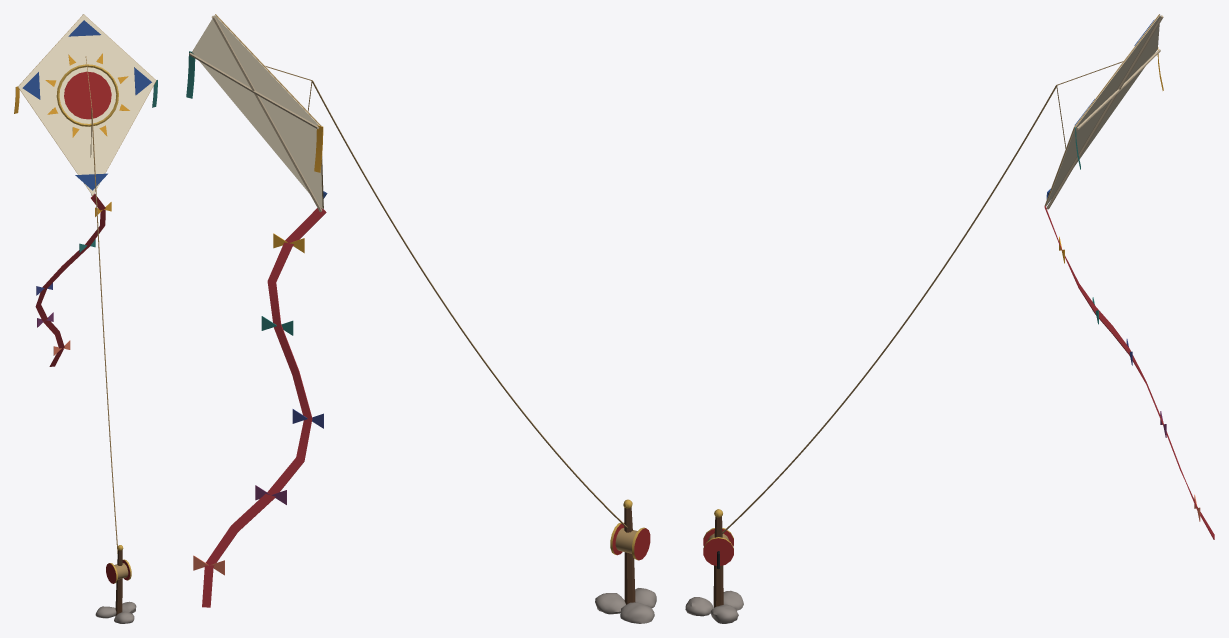
File: deco_kite.fbx
The picture shows the model from 3 angles, left to right: view 1: azimuth 30°, elevation 25°; view 2: azimuth 150°, elevation 25°; view 3: azimuth 270°, elevation 25°; orthographic projection. The views are drawn at different scales.
Parts seen in each view (by area): view 1: Kite_Kite, Kite_Tail, Kite_Stake, Kite_String; view 2: Kite_Kite, Kite_Tail, Kite_Stake, Kite_String; view 3: Kite_Kite, Kite_Stake, Kite_Tail, Kite_String.
Boxes of the visible parts, x1,y1,x2,y2 form: Kite_Kite: [14, 14, 157, 195]; Kite_Tail: [35, 193, 111, 366]; Kite_Stake: [95, 545, 136, 623]; Kite_String: [91, 108, 117, 553]; Kite_Kite: [186, 14, 327, 211]; Kite_Tail: [193, 208, 326, 607]; Kite_Stake: [595, 499, 656, 623]; Kite_String: [311, 80, 627, 528]; Kite_Kite: [1044, 14, 1163, 209]; Kite_Stake: [685, 509, 743, 623]; Kite_Tail: [1044, 205, 1214, 539]; Kite_String: [722, 85, 1056, 533].
Bounding box in the file's own units: 233 × 582 × 407.
